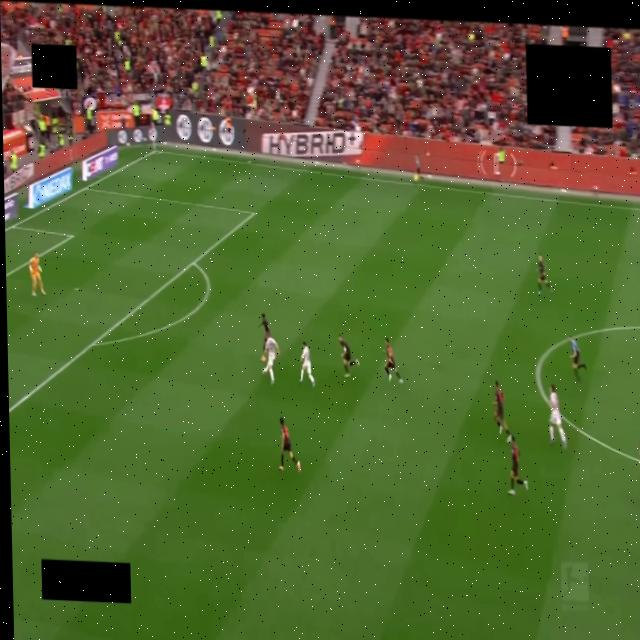ball: (261, 355, 266, 362)
player: (279, 417, 300, 472), (508, 436, 527, 494), (549, 384, 566, 448), (493, 381, 510, 441), (384, 338, 403, 384), (338, 335, 359, 376), (262, 337, 280, 384), (30, 252, 45, 296), (300, 341, 314, 387), (538, 256, 552, 294), (259, 314, 270, 361), (639, 442, 640, 504)
referee: (569, 337, 586, 380)
